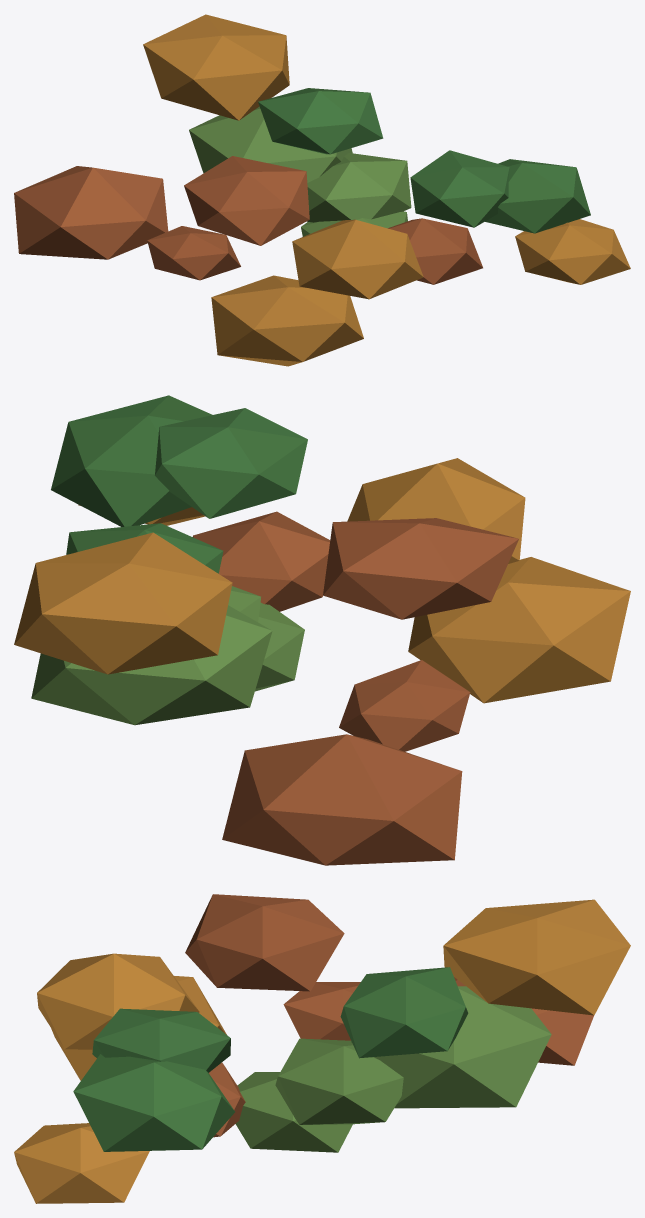
Rendered from leaf-pile.glb.
3 views of the same model, one above another, from view 1: azimuth 30°, elevation 25°; view 2: azimuth 150°, elevation 25°; view 3: azimuth 270°, elevation 25° (orthographic). The views are drawn at different scales.
Visible parts, largest first — view 1: leaf-pile; view 2: leaf-pile; view 3: leaf-pile.
Boxes of the visible parts, x1=… form: leaf-pile: x1=14, y1=14, x2=630, y2=366; leaf-pile: x1=14, y1=395, x2=630, y2=865; leaf-pile: x1=14, y1=894, x2=630, y2=1203.
Bounding box in the file's own units: 0.6654 × 0.2853 × 0.6925.
